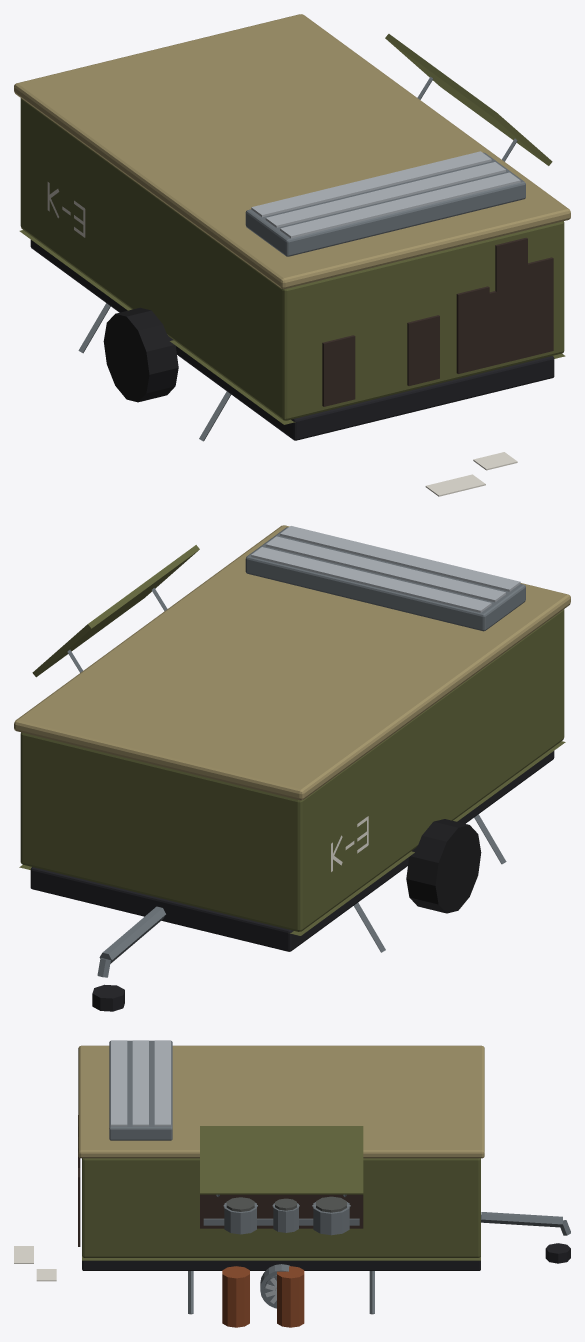
File: field_kitchen.glb
3 renders of one model, top to bottom at view 1: azimuth 30°, elevation 25°; view 2: azimuth 150°, elevation 25°; view 3: azimuth 270°, elevation 25°, orthographic. The views are drawn at different scales.
Parts seen in each view (by area): view 1: field_kitchen; view 2: field_kitchen; view 3: field_kitchen.
Part boxes in pixels (box(x1,y1,x2,y2)): field_kitchen: box(14, 14, 570, 496); field_kitchen: box(14, 525, 570, 1011); field_kitchen: box(14, 1040, 570, 1327).
Size of what is drawn, in the model's own units: 3.56 by 2.3 by 6.14.
Materials: 3 (3 with a texture image).
